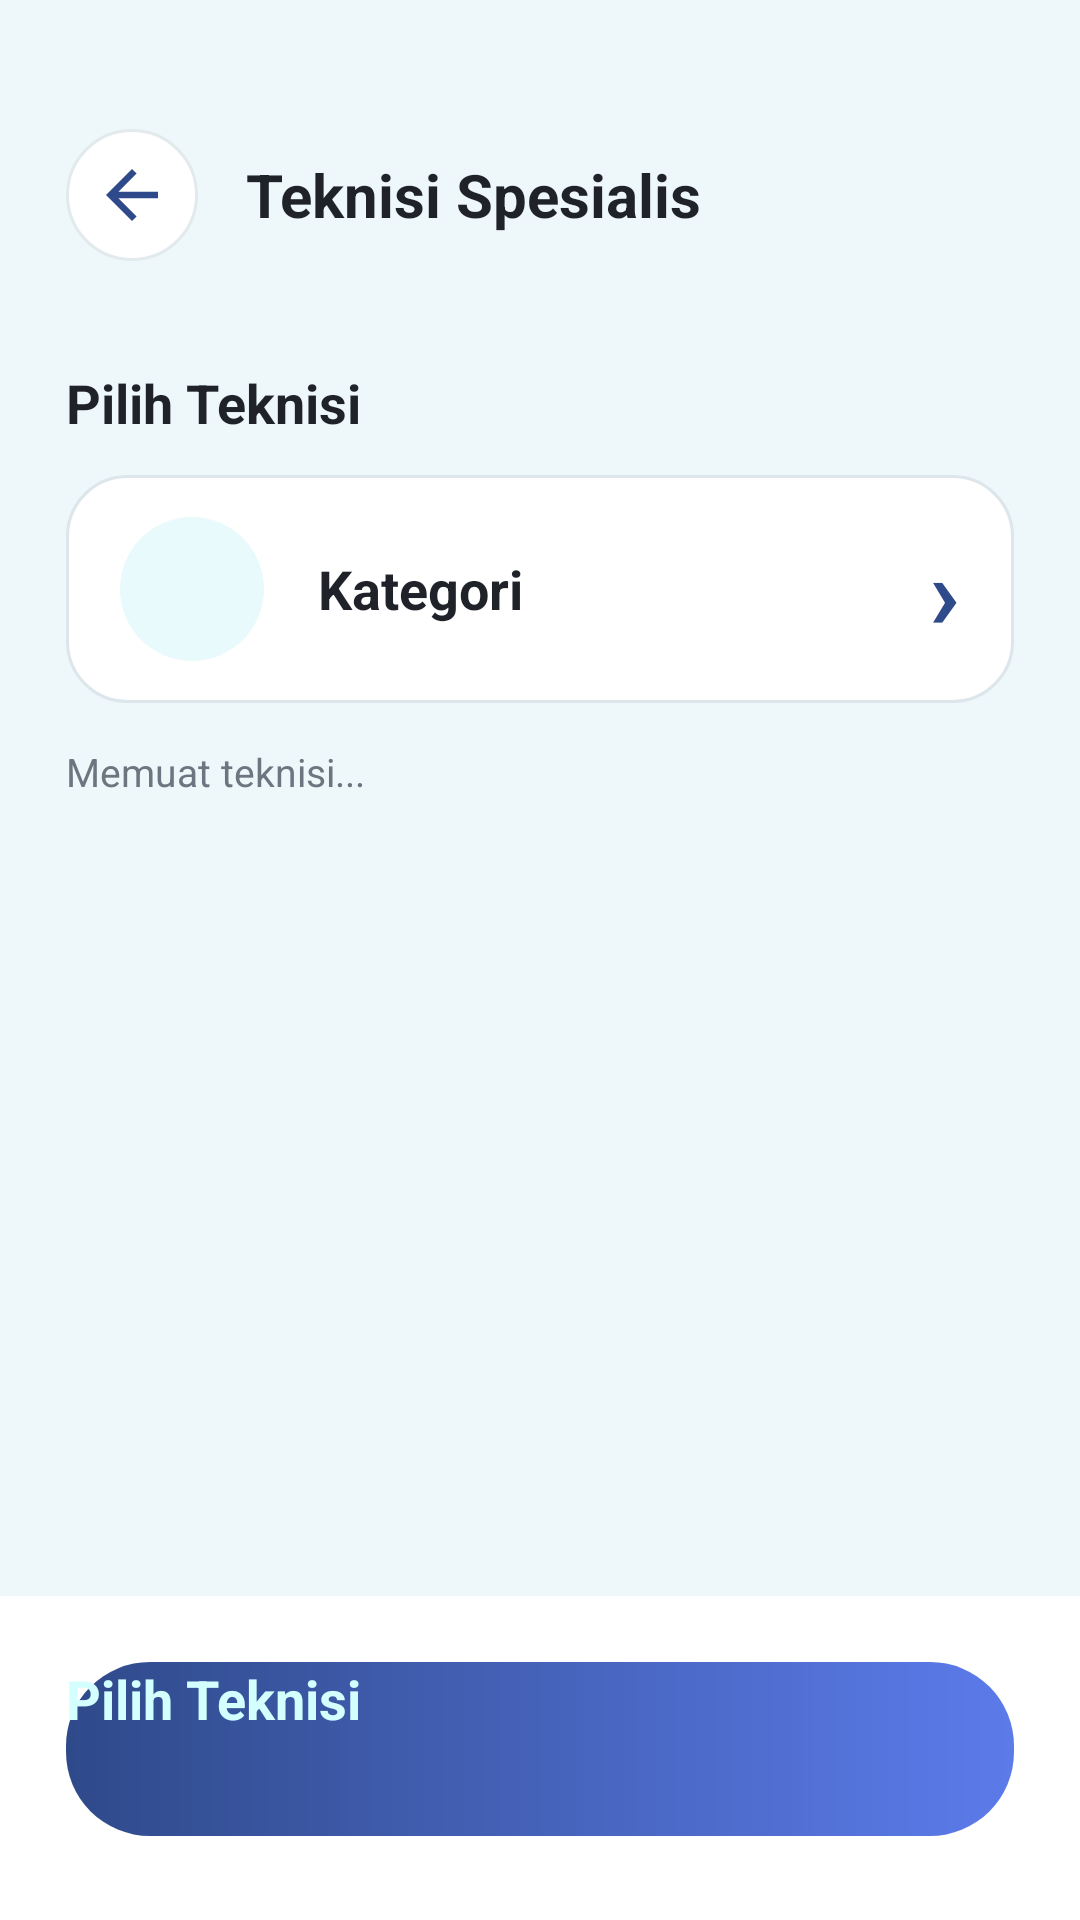

Icons on this 1080 × 1920 Android screen, each with its box as (x1, y1, x2, y2):
back: (106, 169, 158, 221)
